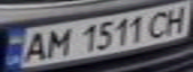1: (75, 20, 100, 53), (112, 16, 133, 47), (127, 12, 148, 43)
5: (93, 18, 118, 51)
A: (18, 29, 51, 64)
C: (145, 8, 175, 38)
H: (160, 2, 193, 35)
M: (39, 26, 75, 60)
